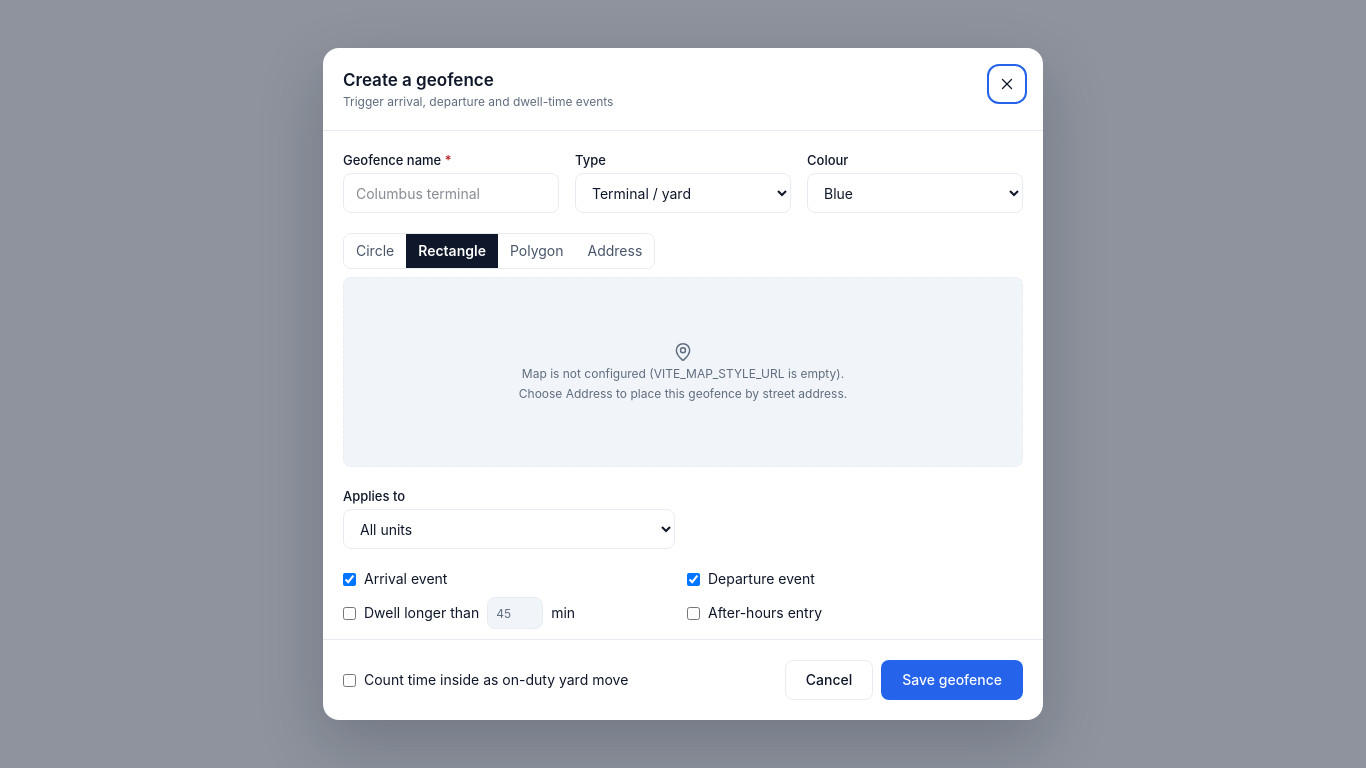
Test case: 11.1 Create a geofence — close and failure are never silent › confirms on Cancel once the form has been edited
Step 1. Type "Yard A" into the field with placeholder "Columbus terminal" → [451, 193], box [343,173,559,213]
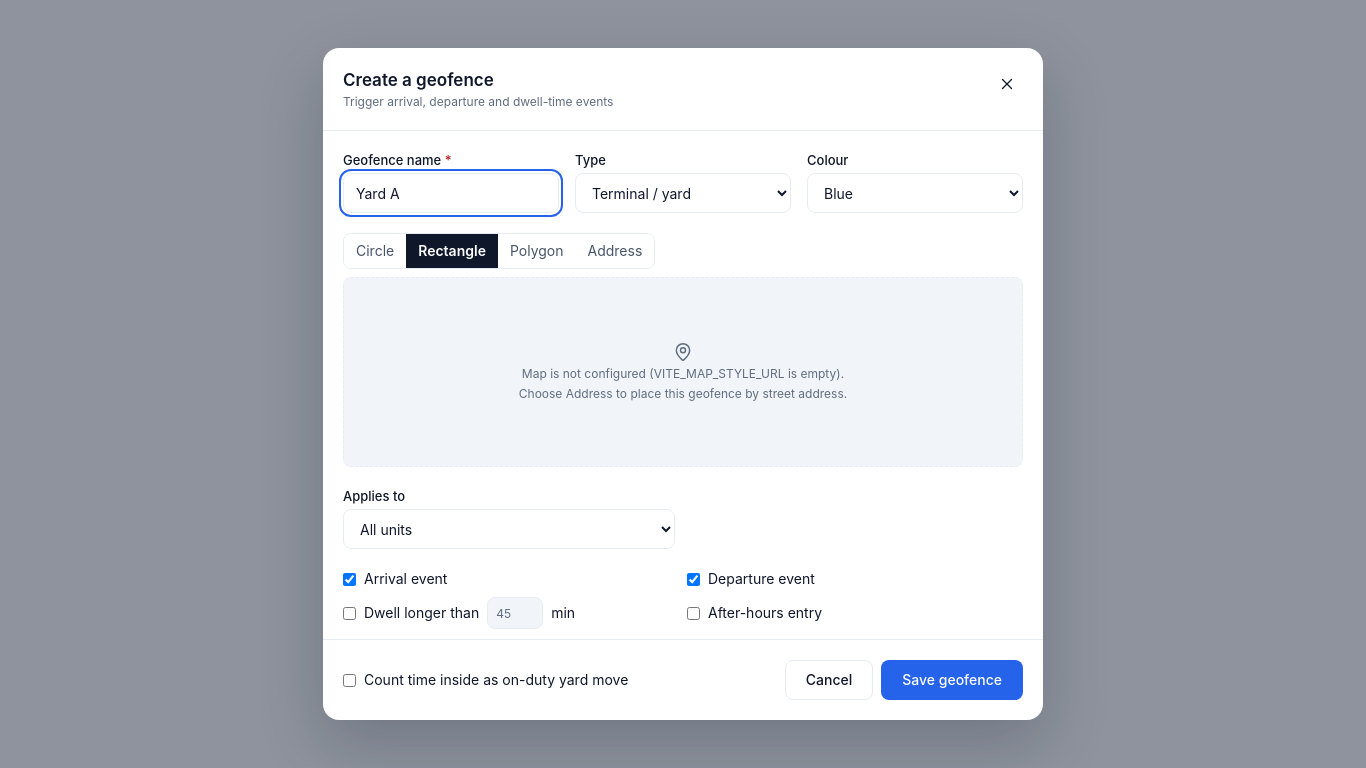
Step 2. Click the button "Cancel" → [829, 680], box [785,660,873,700]
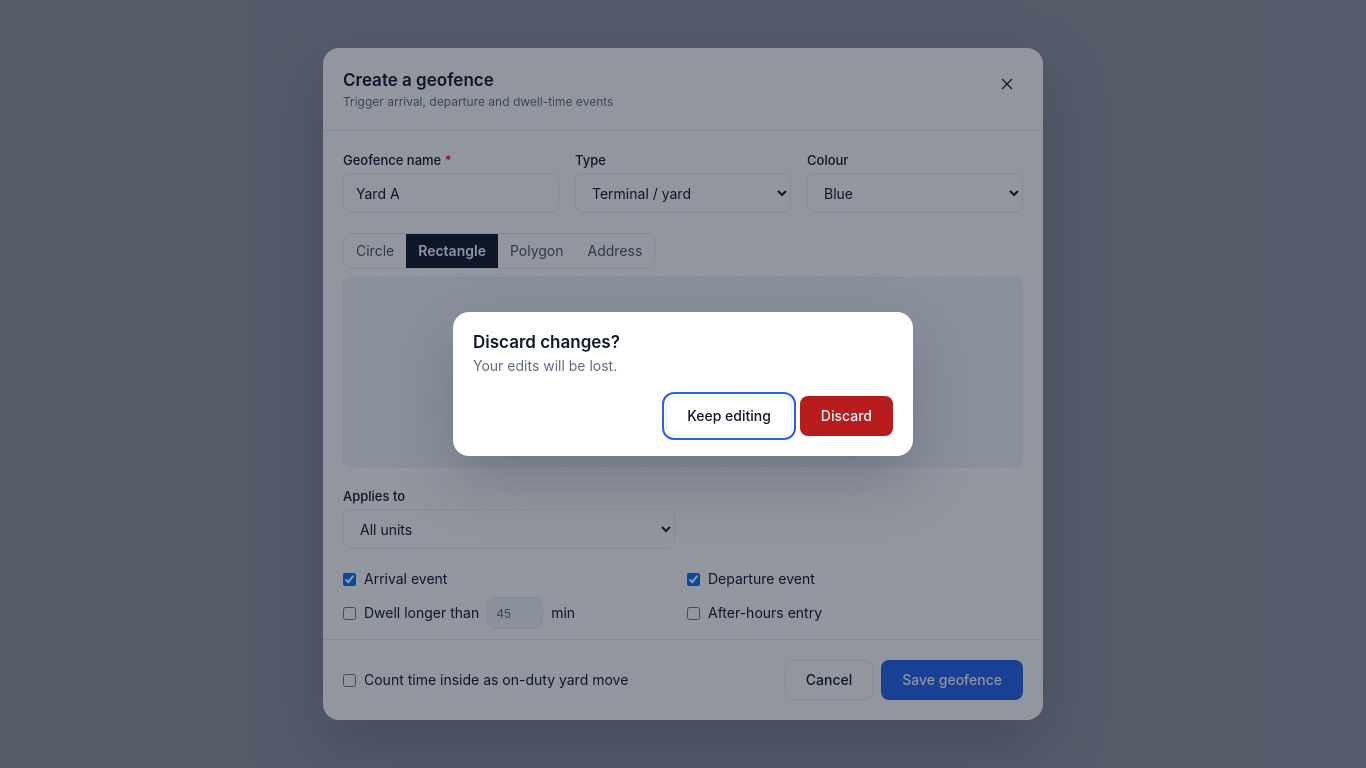
Expected: the heading "Discard changes?" is shown, [473,332,620,352]
